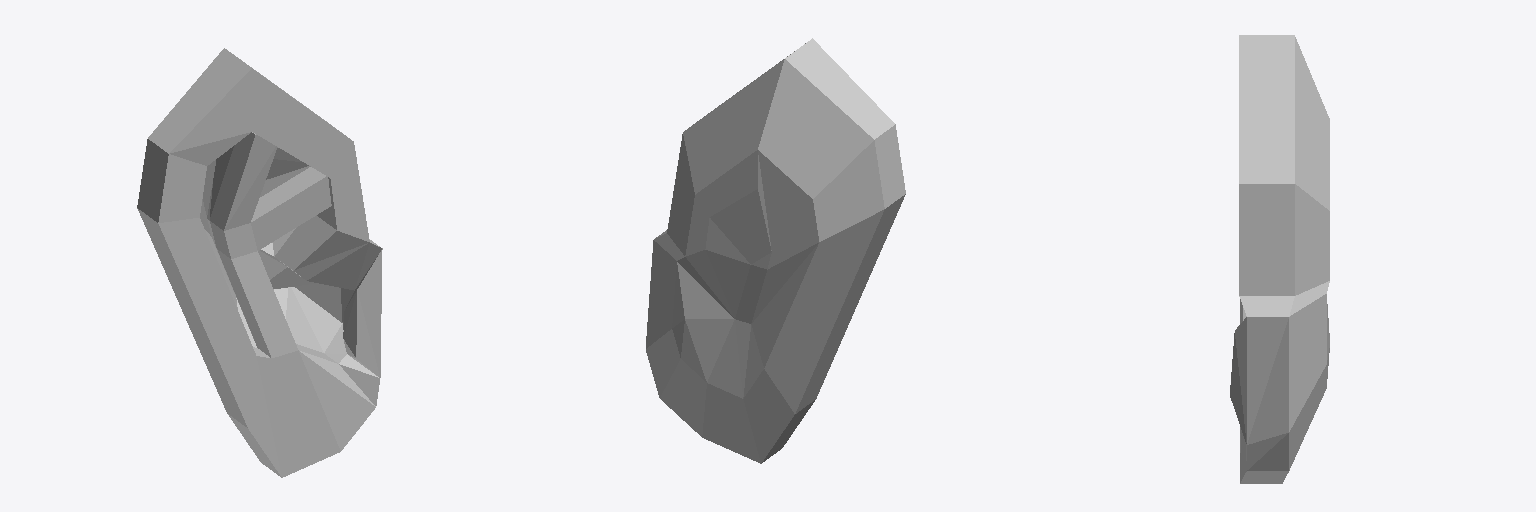
The model's file is Ear.obj.
3 views of the same model, side by side, from view 1: azimuth 30°, elevation 25°; view 2: azimuth 150°, elevation 25°; view 3: azimuth 270°, elevation 25° (orthographic).
Visible parts, largest first — view 1: pCube1; view 2: pCube1; view 3: pCube1.
Boxes of the visible parts, x1=… form: pCube1: x1=137, y1=48, x2=382, y2=477; pCube1: x1=646, y1=38, x2=905, y2=463; pCube1: x1=1230, y1=35, x2=1329, y2=483.
Size of the model in its own units: 2.28 by 3.85 by 0.8408.